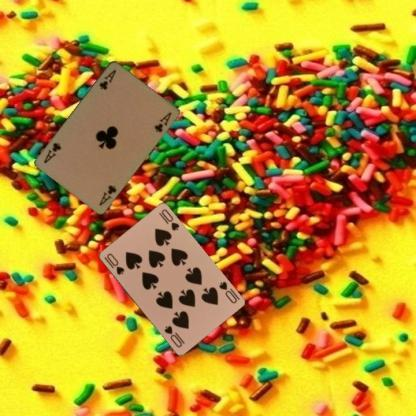10s: (101, 251, 125, 276), (216, 279, 238, 305)
Ac: (96, 66, 118, 91), (96, 182, 118, 207)
